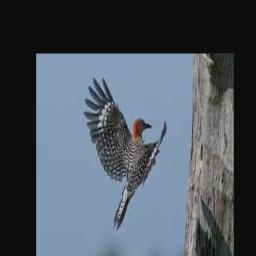Woodpecker: (83, 77, 167, 230)
